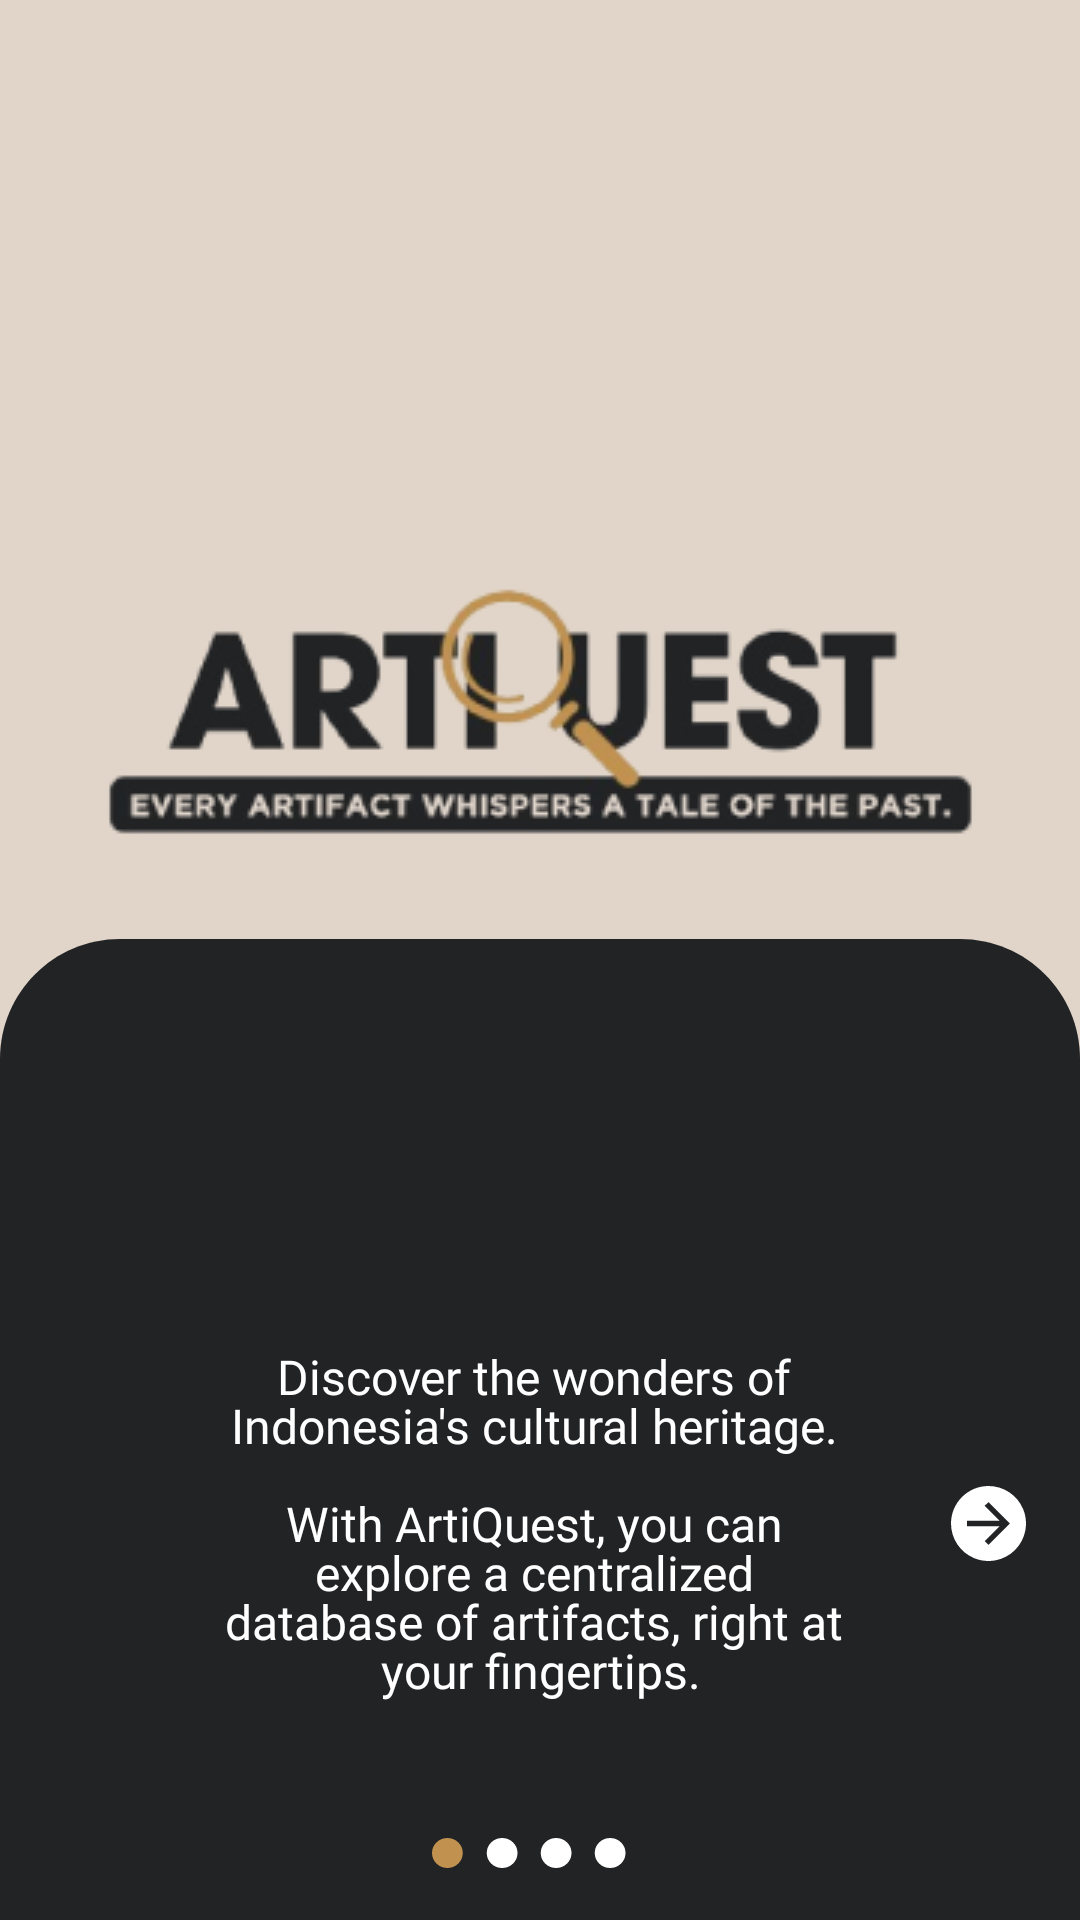

Screen size 1080 x 1920. Icon name, then its box in pixels as (x1, y1, x2, y2):
Next Button: (951, 1486, 1026, 1561)
